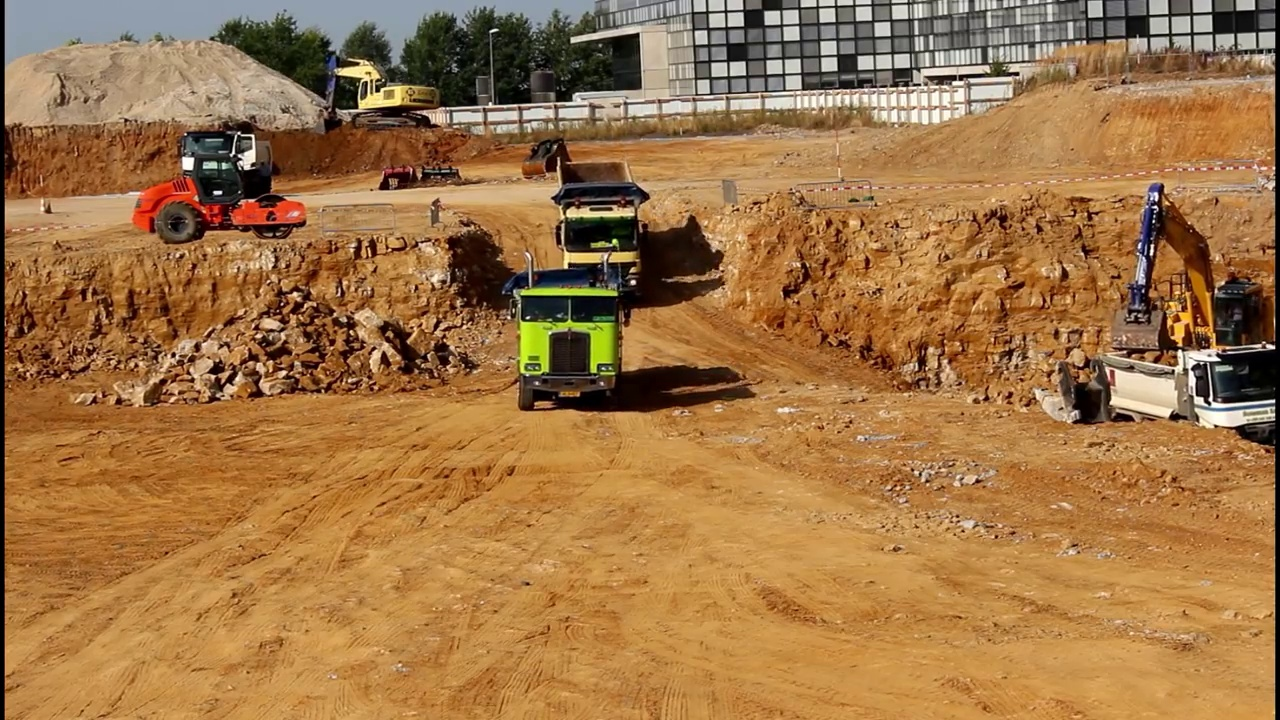compactor: (131, 154, 307, 241)
excavator: (1110, 181, 1280, 397), (315, 48, 441, 133)
truck: (500, 247, 640, 416), (1102, 336, 1280, 463), (550, 154, 653, 309), (177, 120, 277, 212)
